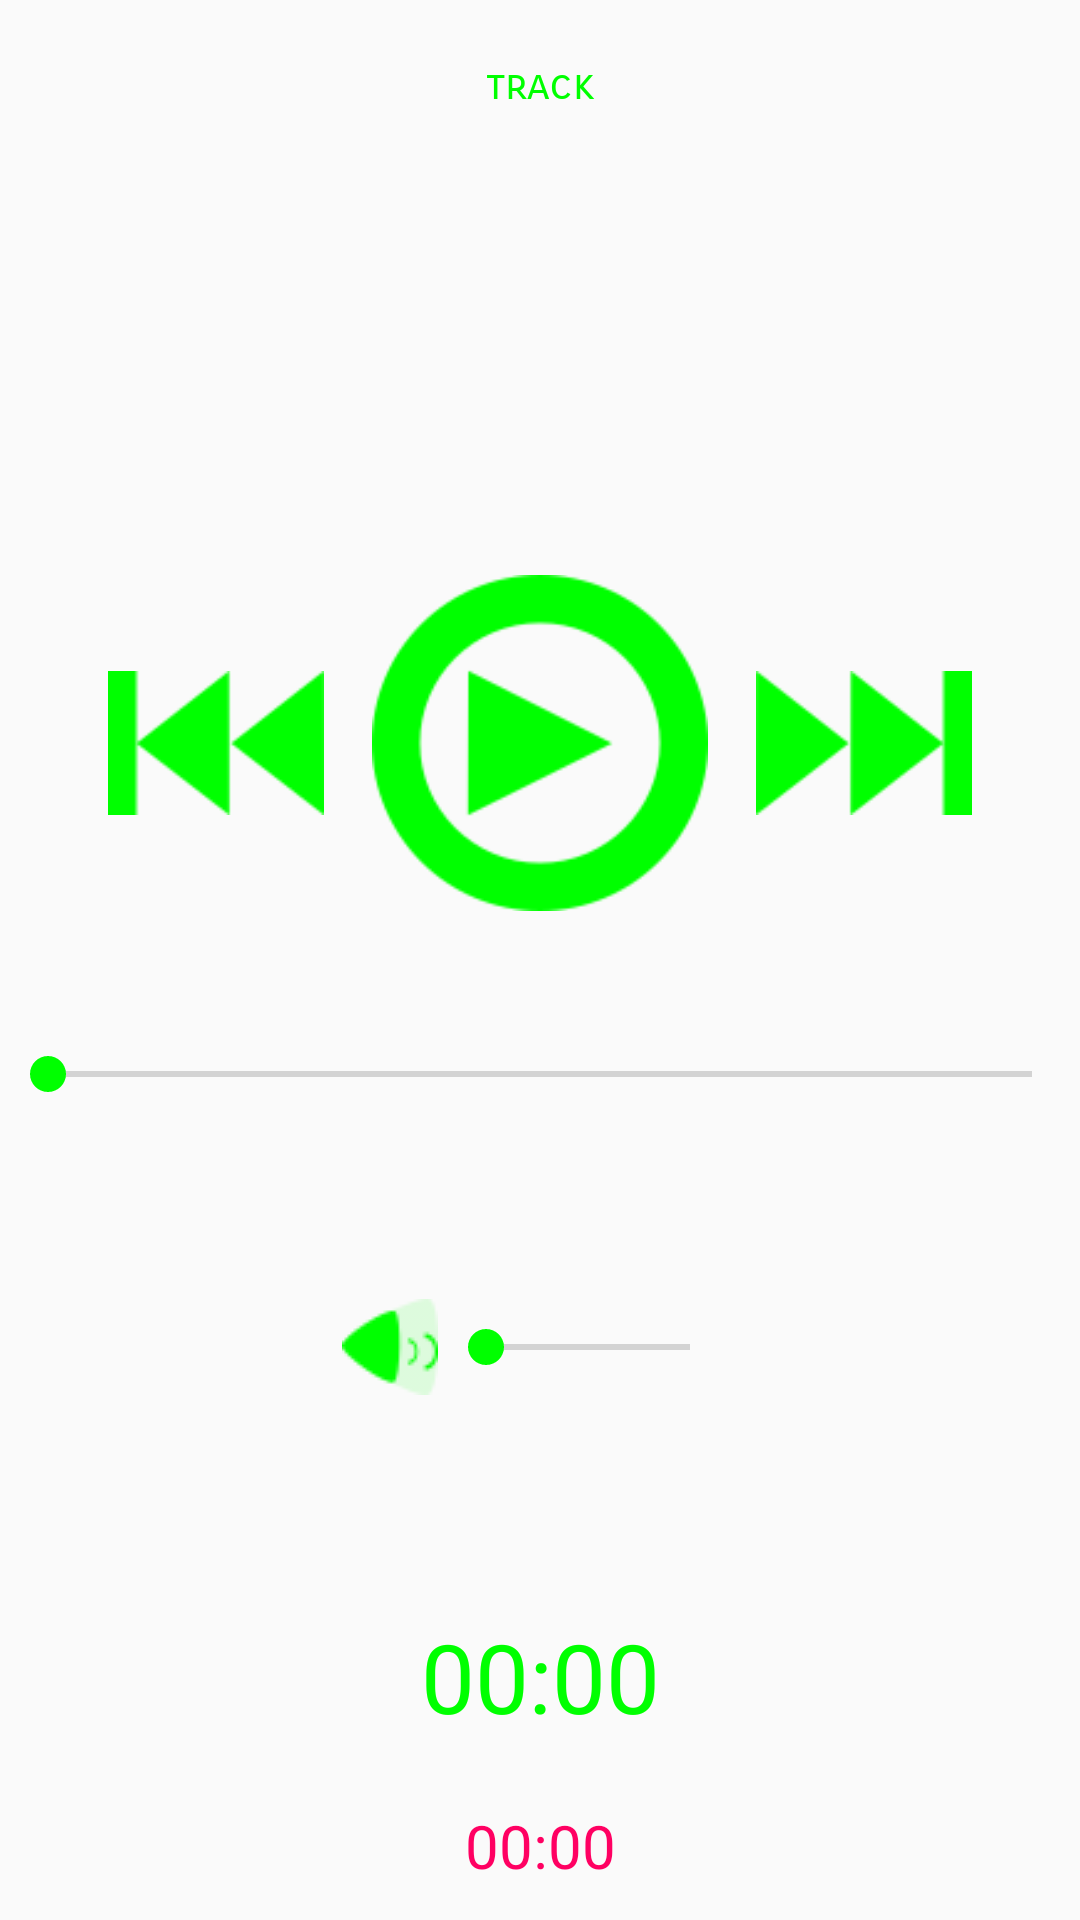

Named icons in this screenshot (1080w x 1920h) and their centers, (x,y):
backward: (216,743)
forward: (864,743)
play: (540,743)
volume: (390,1347)
